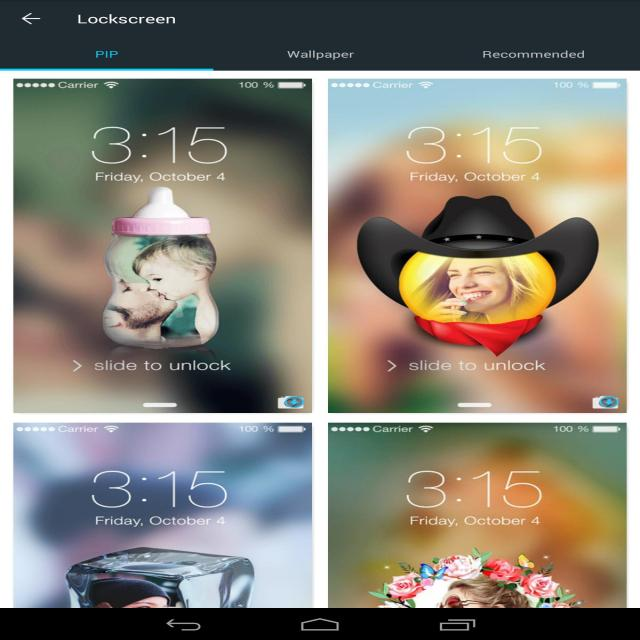button: (218, 43, 441, 71), (2, 44, 213, 72), (450, 43, 640, 70), (17, 9, 44, 28), (279, 394, 308, 410), (595, 395, 622, 411)
heading: (67, 12, 191, 28)
image: (328, 78, 628, 413), (15, 77, 314, 413), (13, 422, 312, 608), (330, 422, 626, 609)
text: (480, 49, 591, 62), (284, 47, 359, 62), (88, 47, 124, 60)
